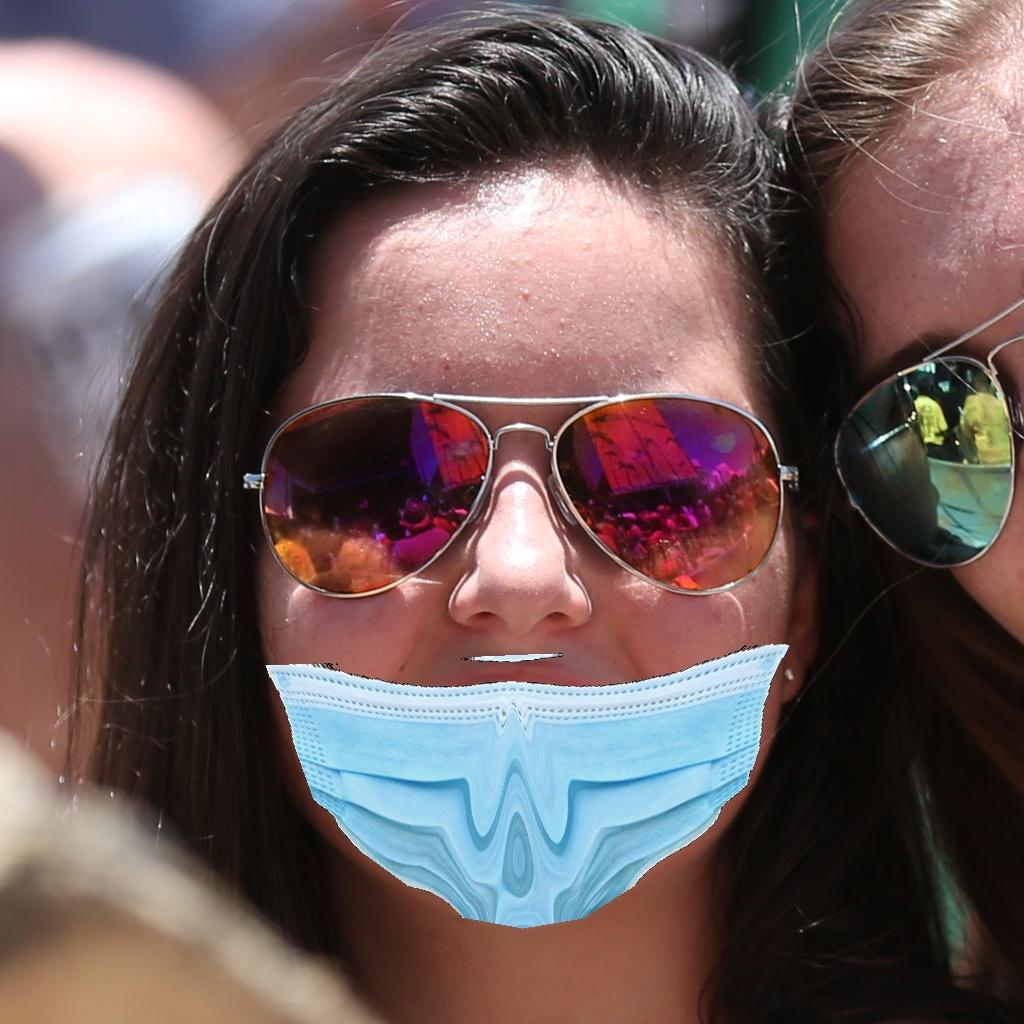Máscara Incorreta: (222, 300, 820, 911)
